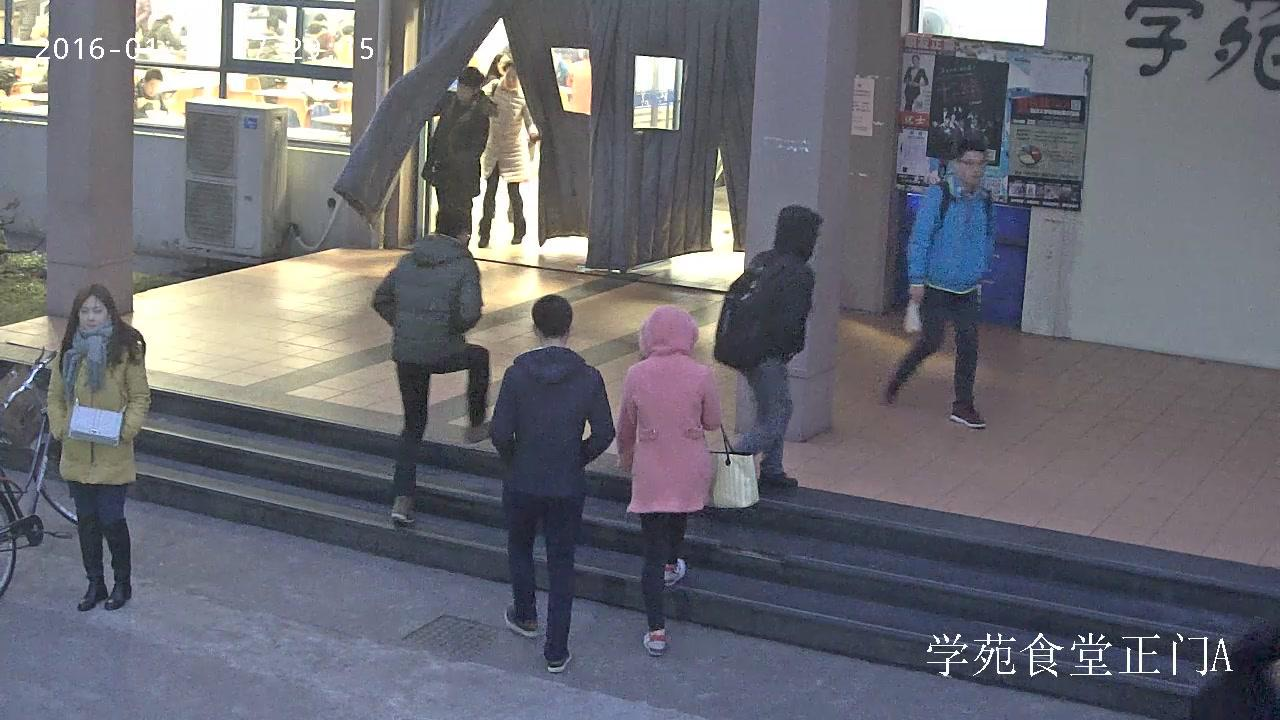person: (615, 304, 760, 657), (490, 293, 615, 673), (371, 206, 492, 527), (46, 283, 151, 612), (878, 138, 996, 428), (714, 205, 822, 489), (420, 67, 495, 253), (477, 53, 537, 247), (132, 68, 170, 120), (903, 55, 929, 114), (147, 14, 183, 49), (255, 18, 284, 59)
